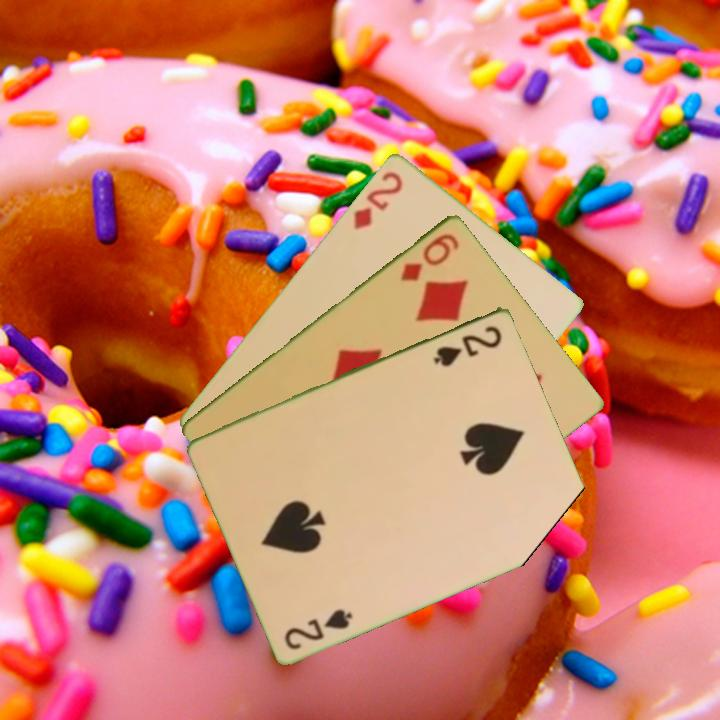2d: (349, 167, 406, 232)
2s: (280, 604, 356, 652), (430, 321, 505, 369)
6d: (397, 229, 462, 284)
